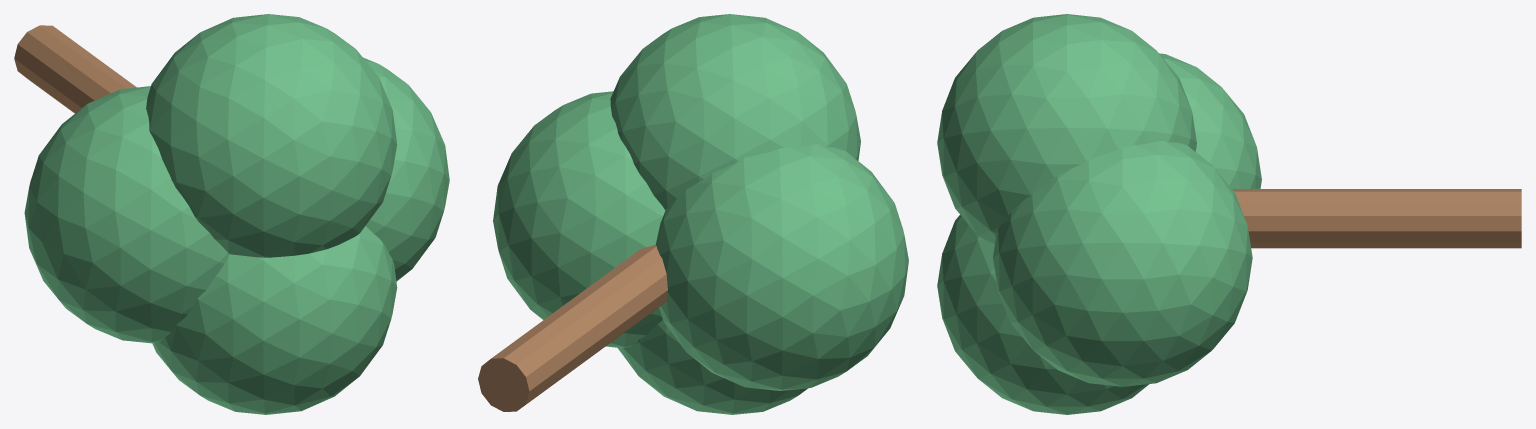
Rendered from tree_green.glb.
The picture shows the model from 3 angles, left to right: view 1: azimuth 30°, elevation 25°; view 2: azimuth 150°, elevation 25°; view 3: azimuth 270°, elevation 25°; orthographic projection.
Parts seen in each view (by area): view 1: foliage_3, foliage_1, foliage_4, foliage_2, trunk_0; view 2: foliage_1, foliage_3, foliage_2, trunk_0, foliage_4; view 3: foliage_2, foliage_3, trunk_0, foliage_4, foliage_1.
Part boxes in pixels (left/top/right/bottom): foliage_3: left=146, top=14, right=397, bottom=257; foliage_1: left=24, top=86, right=229, bottom=343; foliage_4: left=152, top=226, right=397, bottom=414; foliage_2: left=363, top=57, right=449, bottom=281; trunk_0: left=14, top=25, right=136, bottom=113; foliage_1: left=655, top=144, right=908, bottom=390; foliage_3: left=610, top=14, right=860, bottom=209; foliage_2: left=493, top=91, right=665, bottom=347; trunk_0: left=478, top=245, right=667, bottom=411; foliage_4: left=617, top=320, right=807, bottom=414; foliage_2: left=993, top=141, right=1252, bottom=386; foliage_3: left=937, top=14, right=1196, bottom=243; trunk_0: left=1232, top=189, right=1521, bottom=248; foliage_4: left=937, top=215, right=1149, bottom=414; foliage_1: left=1159, top=53, right=1261, bottom=188.
Bounding box in the file's own units: 2.4 × 2.25 × 3.15.
